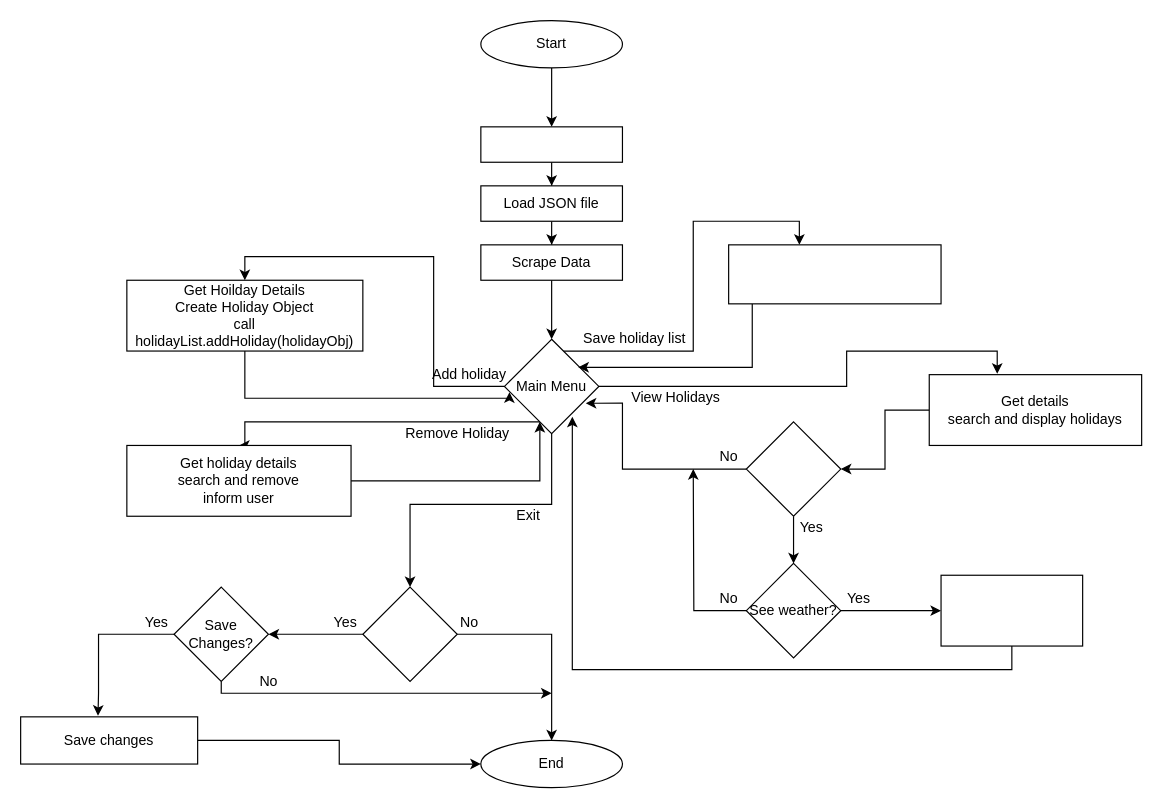
Some shapes in this 1162 by 808 pixel diagram are drawn without their labels. Here are the shapes that lost their labels. From the top down, the centre of each, then its label:
At (x=551, y=144): "Initialize HolidayList".
At (x=834, y=274): "Write out json file to selected file".
At (x=793, y=468): "Current Week?".
At (x=1011, y=610): "Pull weather info from API".
At (x=409, y=633): "Changes Made?".
